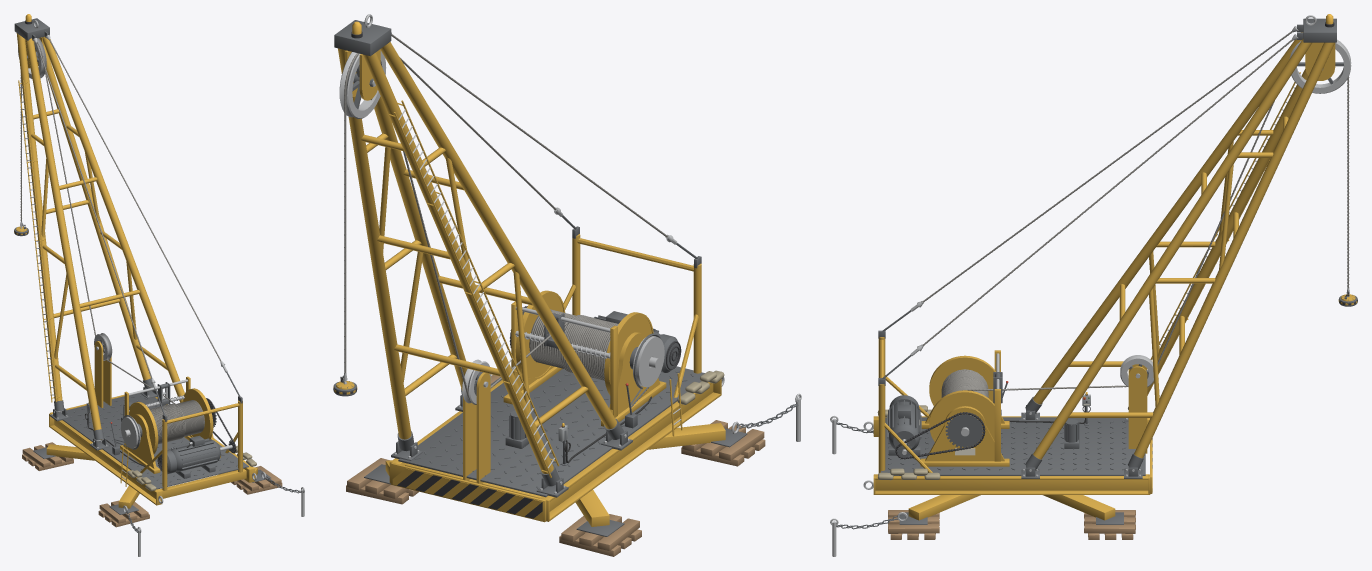
The model's file is RimWinchA.fbx.
3 views of the same model, side by side, from view 1: azimuth 30°, elevation 25°; view 2: azimuth 150°, elevation 25°; view 3: azimuth 270°, elevation 25° (orthographic). The views are drawn at different scales.
Parts seen in each view (by area): view 1: A_Slew, A_Base, A_Drum, A_Rope; view 2: A_Slew, A_Base, A_Drum, A_Rope, A_HeadSheave; view 3: A_Slew, A_Base, A_Drum, A_Rope, A_HeadSheave.
Boxes of the visible parts, x1,y1,x2,y2 form: A_Slew: (14,14,256,505); A_Base: (22,442,304,556); A_Drum: (121,388,216,454); A_Rope: (20,41,176,404); A_Slew: (334,14,724,522); A_Base: (346,375,801,556); A_Drum: (515,290,664,395); A_Rope: (344,53,575,400); A_HeadSheave: (339,51,386,118); A_Slew: (863,14,1336,494); A_Base: (830,415,1135,556); A_Drum: (929,355,995,448); A_Rope: (965,76,1349,390); A_HeadSheave: (1289,39,1351,93).
Bounding box in the file's own units: 7.96 × 16.94 × 17.37.
